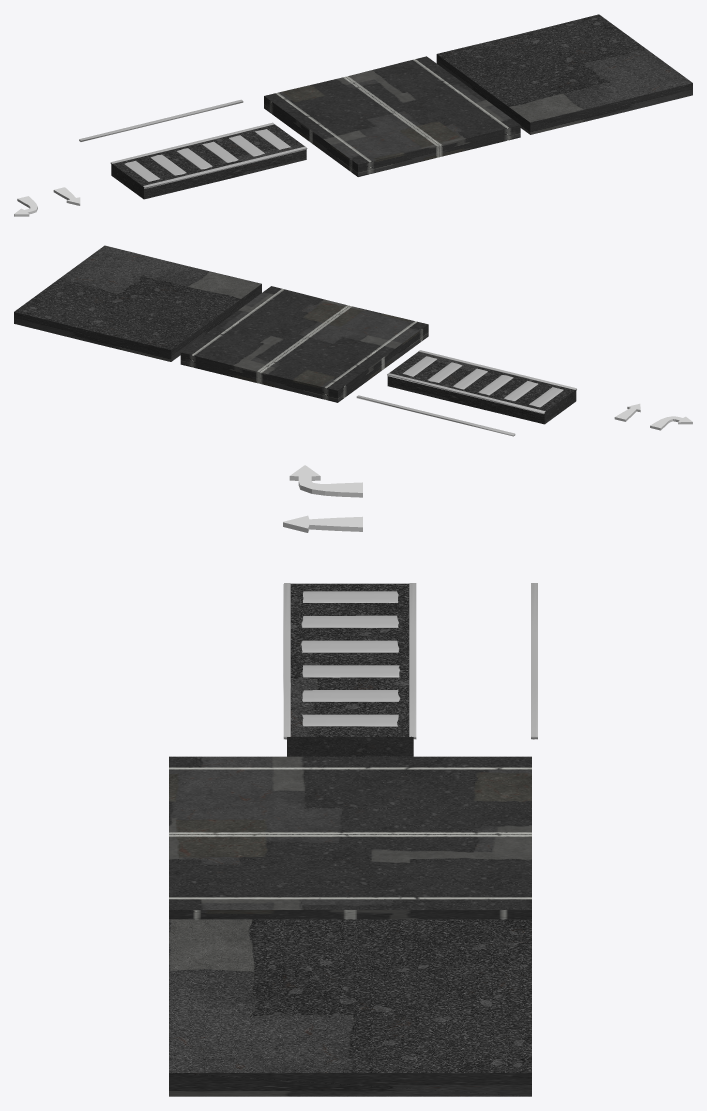
The model's file is roadsFBX.fbx.
The picture shows the model from 3 angles, top to bottom: view 1: azimuth 30°, elevation 25°; view 2: azimuth 150°, elevation 25°; view 3: azimuth 270°, elevation 25°; orthographic projection. The views are drawn at different scales.
Visible parts, largest first — view 1: straight, blank, crosswalk, divider (hides seams); view 2: straight, blank, crosswalk, divider (hides seams), turnarrow; view 3: blank, straight, crosswalk, turnarrow, divider (hides seams), forwardarrow.
Boxes of the visible parts, x1,y1,x2,y2 form: straight: [264, 56, 520, 176]; blank: [436, 14, 692, 134]; crosswalk: [110, 122, 307, 199]; divider (hides seams): [79, 99, 243, 141]; straight: [180, 286, 428, 402]; blank: [14, 245, 261, 361]; crosswalk: [387, 350, 576, 424]; divider (hides seams): [356, 395, 515, 436]; turnarrow: [650, 416, 692, 430]; blank: [169, 919, 531, 1096]; straight: [169, 756, 531, 919]; crosswalk: [283, 583, 416, 756]; turnarrow: [289, 465, 362, 497]; divider (hides seams): [531, 583, 537, 739]; forwardarrow: [283, 515, 362, 532].
Size of the model in its own units: 5501 by 106 by 1413.
2 materials, 1 textured.
